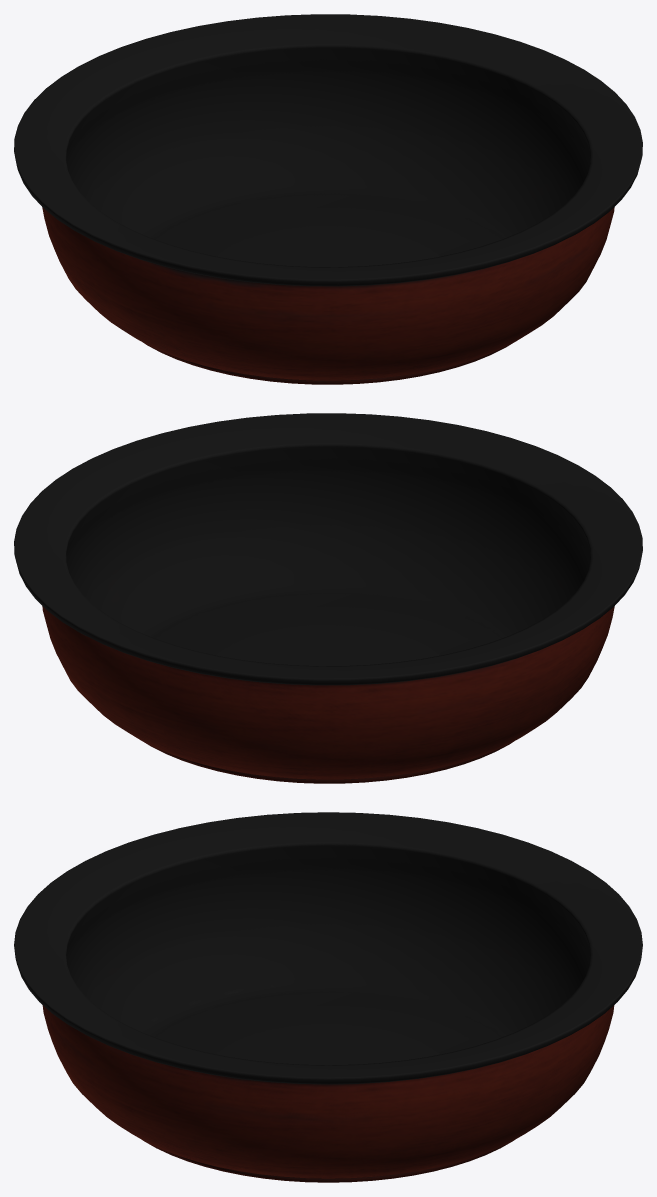
File: SM_ScoopedWoodenVessel.fbx
The picture shows the model from 3 angles, top to bottom: view 1: azimuth 30°, elevation 25°; view 2: azimuth 150°, elevation 25°; view 3: azimuth 270°, elevation 25°; orthographic projection.
Parts seen in each view (by area): view 1: SM_ScoopedWoodenVessel; view 2: SM_ScoopedWoodenVessel; view 3: SM_ScoopedWoodenVessel.
Part boxes in pixels (box(x1,y1,x2,y2)): SM_ScoopedWoodenVessel: box(14, 14, 642, 384); SM_ScoopedWoodenVessel: box(14, 413, 642, 783); SM_ScoopedWoodenVessel: box(14, 812, 642, 1182).
Bounding box in the file's own units: 55.02 × 13.86 × 55.02.
Materials: 1 (1 with a texture image).
